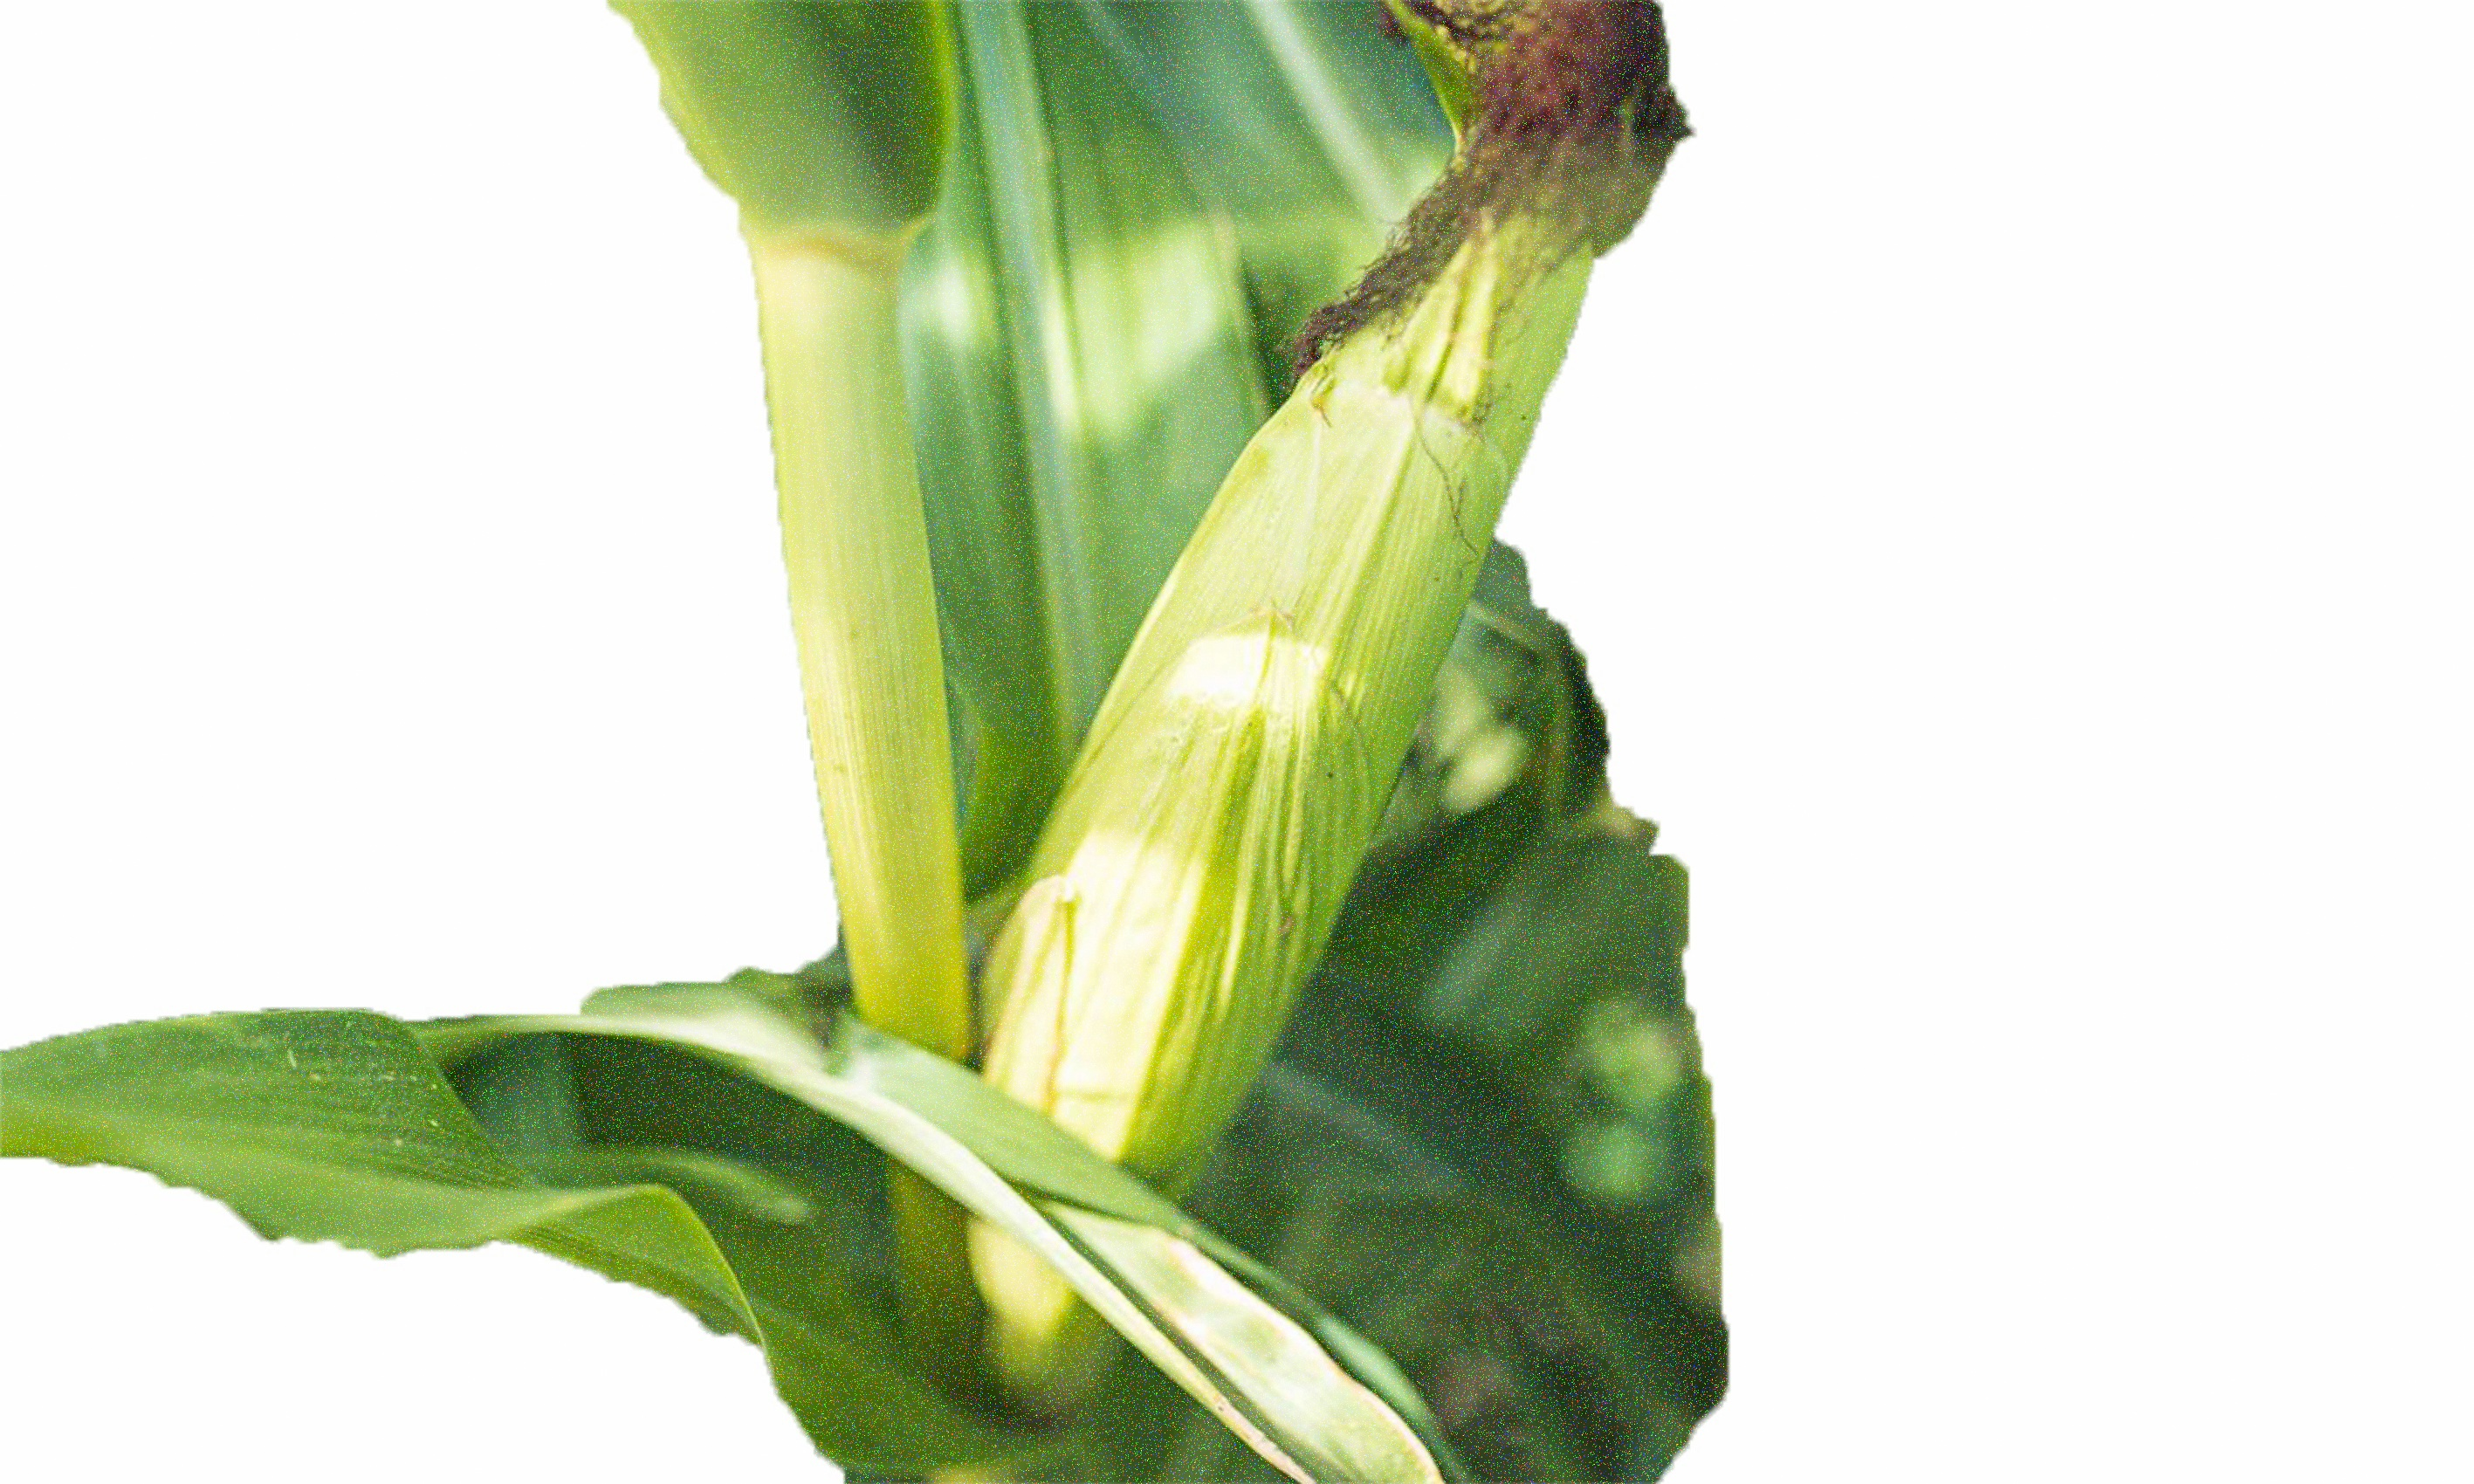corn_plant: (823, 30, 1656, 1369)
